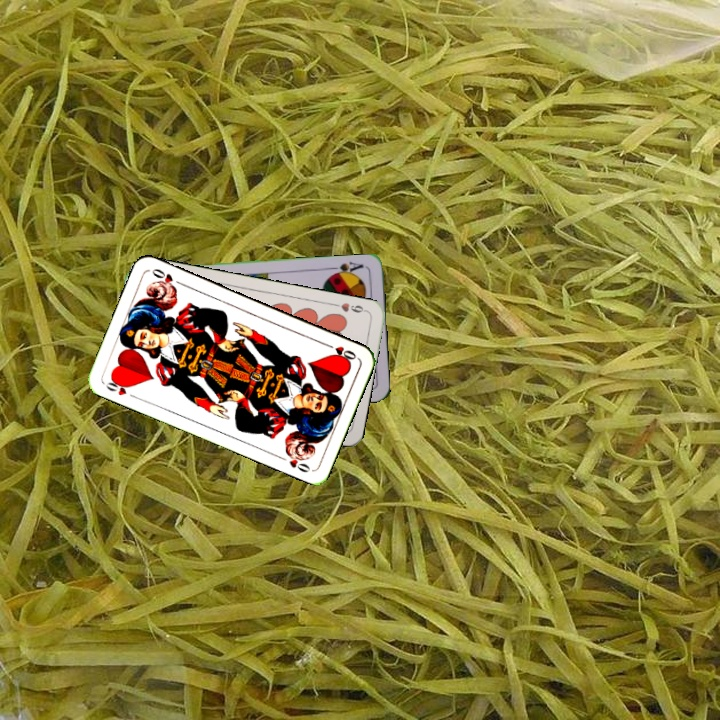H9: (330, 299, 370, 315)
HO: (321, 339, 359, 364), (102, 374, 133, 398)
SA: (327, 258, 365, 279)
